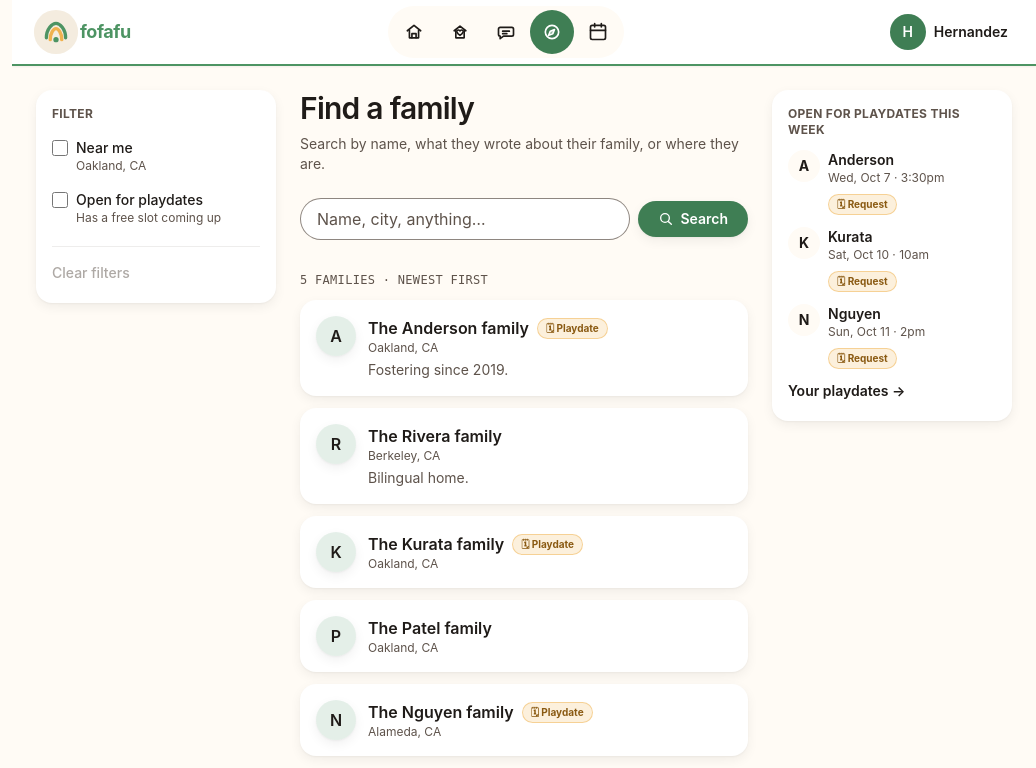
Test: SearchPage filters › narrows the list to families with a future free slot with Open for playdates
Click the checkbox labelled "Open for playdates": (60,200) [52, 192, 68, 208]
(page scrolled)
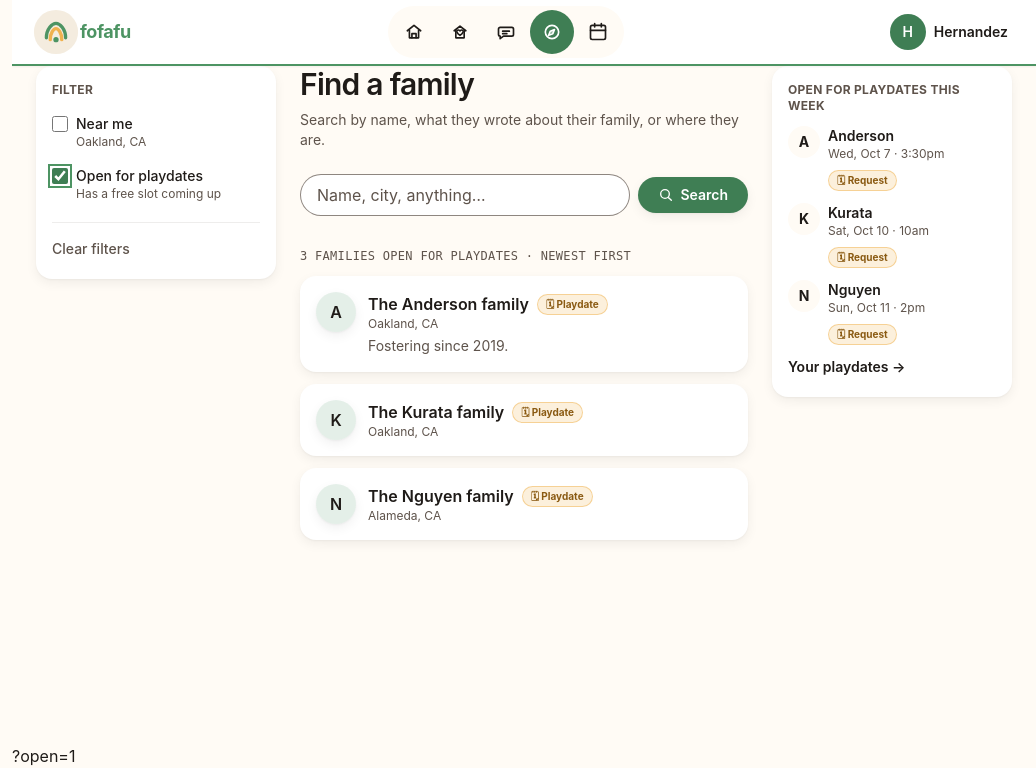
Now the message reads "3 families open for playdates", box [300, 249, 518, 263]
Now the text with test id "location-search" reads "?open=1", box [12, 746, 76, 766]
